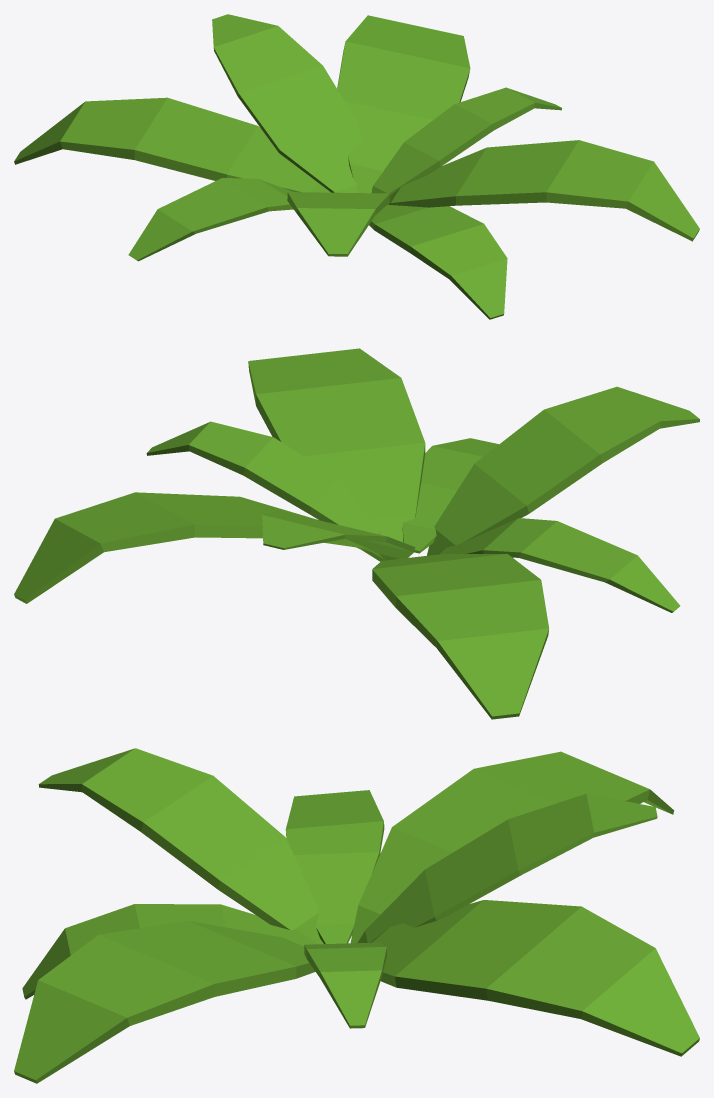
The model's file is Plant_3.fbx.
The picture shows the model from 3 angles, top to bottom: view 1: azimuth 30°, elevation 25°; view 2: azimuth 150°, elevation 25°; view 3: azimuth 270°, elevation 25°; orthographic projection. The views are drawn at different scales.
Visible parts, largest first — view 1: Plant_3; view 2: Plant_3; view 3: Plant_3.
Part boxes in pixels (x1=…): Plant_3: x1=14, y1=14, x2=699, y2=319; Plant_3: x1=14, y1=348, x2=699, y2=719; Plant_3: x1=14, y1=748, x2=699, y2=1083.
Bounding box in the file's own units: 139 × 37.72 × 142.
